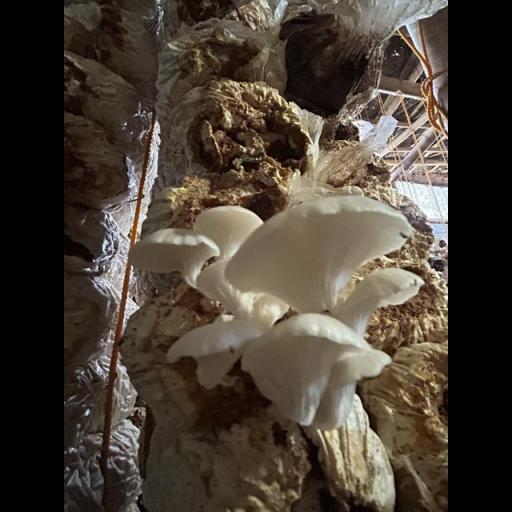White Oyster Mushroom: (129, 193, 419, 429)
